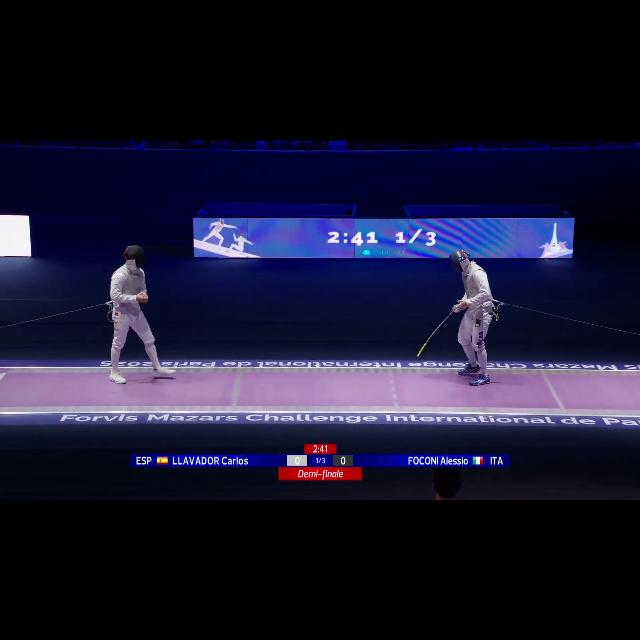blade: (414, 304, 460, 360)
